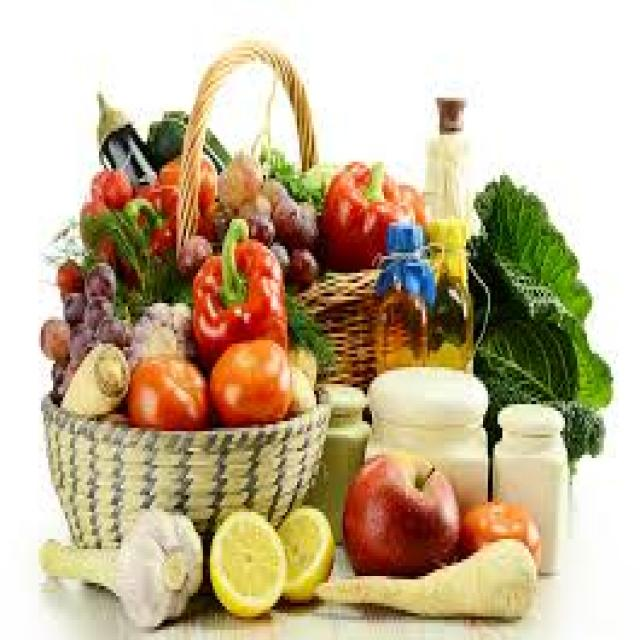organic waste: (466, 172, 604, 458), (36, 498, 200, 626), (312, 532, 536, 616), (343, 448, 459, 573), (190, 212, 282, 354), (324, 155, 420, 263), (208, 502, 282, 616), (208, 333, 287, 418), (82, 196, 147, 296), (120, 350, 208, 421), (275, 502, 336, 599), (457, 495, 536, 566), (92, 88, 152, 178), (56, 340, 126, 414), (121, 178, 174, 270), (258, 138, 322, 202), (162, 108, 229, 165), (128, 296, 193, 354), (282, 290, 331, 364), (145, 118, 217, 168), (157, 145, 213, 209), (162, 145, 212, 205), (215, 145, 261, 202), (288, 360, 316, 411), (82, 256, 116, 296), (77, 198, 106, 242), (38, 313, 68, 354), (104, 165, 130, 212), (287, 242, 319, 280), (287, 205, 319, 242), (65, 317, 92, 357), (177, 229, 206, 266), (270, 192, 294, 236), (285, 340, 314, 371), (82, 293, 106, 330), (261, 175, 282, 206), (94, 313, 121, 337), (56, 256, 77, 286), (63, 290, 82, 316), (246, 216, 268, 236), (89, 168, 104, 196), (268, 239, 285, 263), (48, 360, 63, 380), (46, 377, 63, 394)
